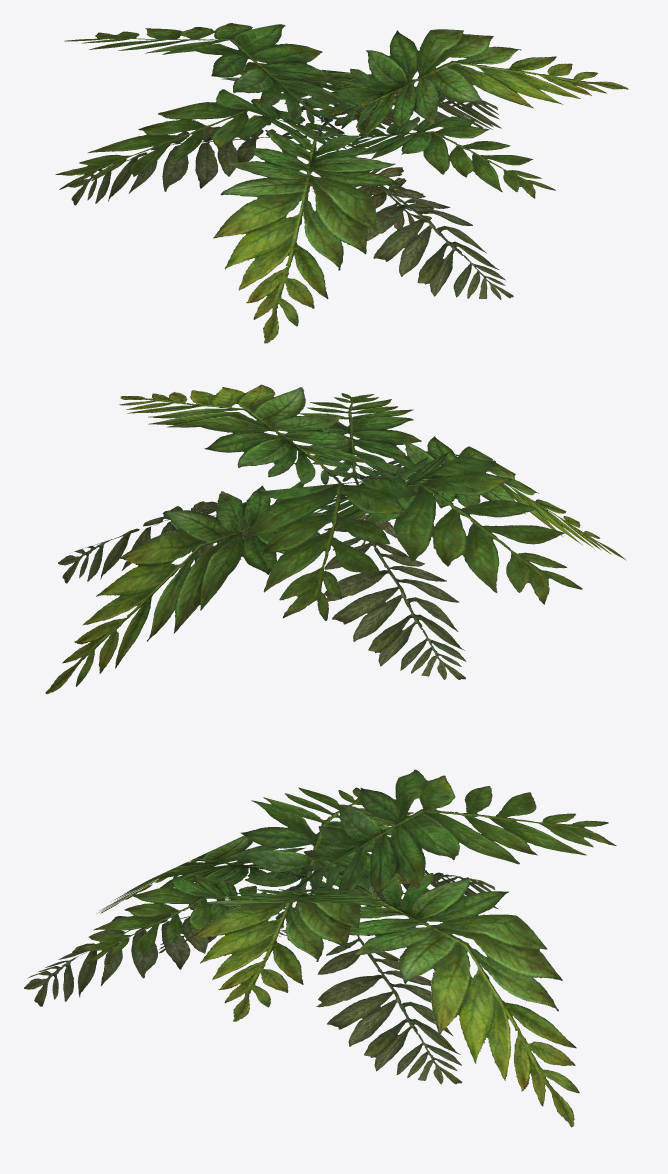
File: zhiwu03.FBX
3 renders of one model, top to bottom at view 1: azimuth 30°, elevation 25°; view 2: azimuth 150°, elevation 25°; view 3: azimuth 270°, elevation 25°, orthographic. The views are drawn at different scales.
Visible parts, largest first — view 1: 对象01, 对象04, 对象10, 对象08, 对象09, 对象07, 对象02, 对象05, 对象06, 对象03; view 2: 对象05, 对象08, 对象04, 对象10, 对象02, 对象07, 对象01, 对象06; view 3: 对象05, 对象10, 对象04, 对象06, 对象08, 对象07, 对象09, 对象01, 对象02.
Boxes of the visible parts, left/top/right/bottom form: 对象01: left=213, top=117, right=399, bottom=343; 对象04: left=320, top=29, right=628, bottom=137; 对象10: left=64, top=23, right=347, bottom=134; 对象08: left=55, top=89, right=369, bottom=189; 对象09: left=351, top=185, right=513, bottom=299; 对象07: left=346, top=116, right=555, bottom=198; 对象02: left=68, top=126, right=306, bottom=205; 对象05: left=222, top=62, right=418, bottom=137; 对象06: left=317, top=95, right=501, bottom=130; 对象03: left=312, top=167, right=434, bottom=230; 对象05: left=45, top=481, right=347, bottom=694; 对象08: left=316, top=452, right=582, bottom=604; 对象04: left=119, top=384, right=374, bottom=484; 对象10: left=244, top=476, right=417, bottom=620; 对象02: left=324, top=518, right=466, bottom=679; 对象07: left=298, top=393, right=421, bottom=485; 对象01: left=359, top=436, right=626, bottom=560; 对象06: left=58, top=501, right=270, bottom=583; 对象05: left=330, top=871, right=579, bottom=1127; 对象10: left=288, top=769, right=616, bottom=901; 对象04: left=191, top=887, right=387, bottom=1021; 对象06: left=316, top=935, right=462, bottom=1084; 对象08: left=237, top=787, right=413, bottom=940; 对象07: left=78, top=873, right=285, bottom=964; 对象09: left=24, top=899, right=249, bottom=1006; 对象01: left=99, top=835, right=307, bottom=913; 对象02: left=359, top=870, right=498, bottom=910.
Size of the model in its own units: 2.77 by 1.06 by 2.75.
1 material, 1 textured.
